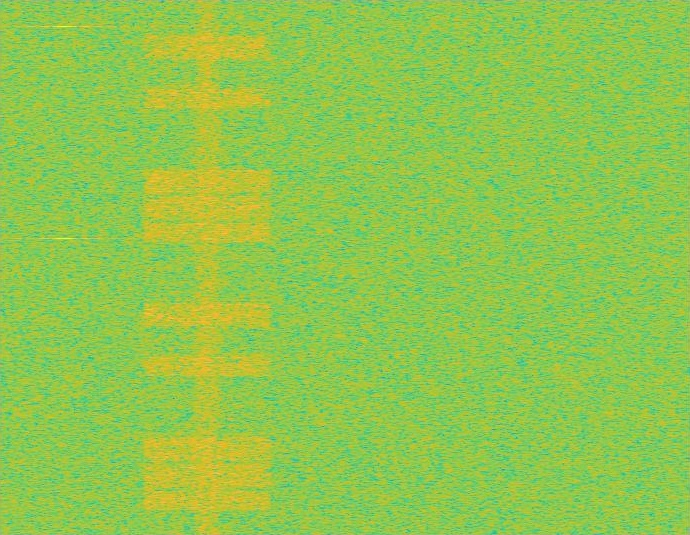DSSS: (192, 0, 223, 534)
LTE: (138, 0, 276, 534)
Radar: (58, 0, 72, 534)
